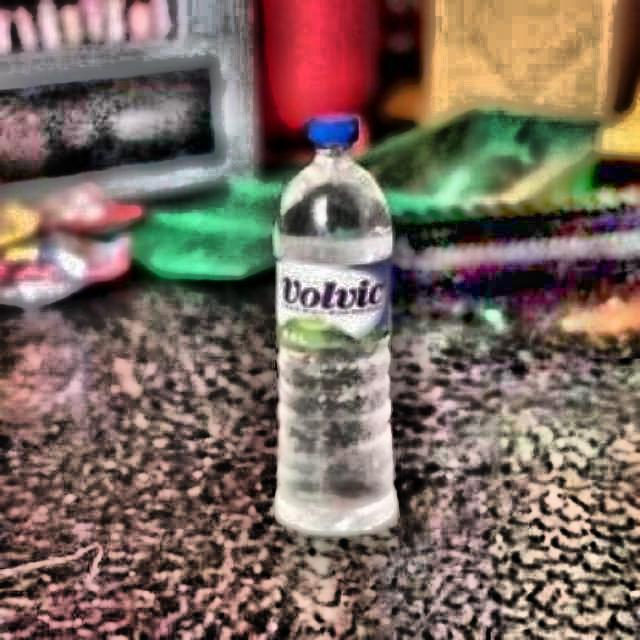Bottles: (262, 113, 414, 544)
